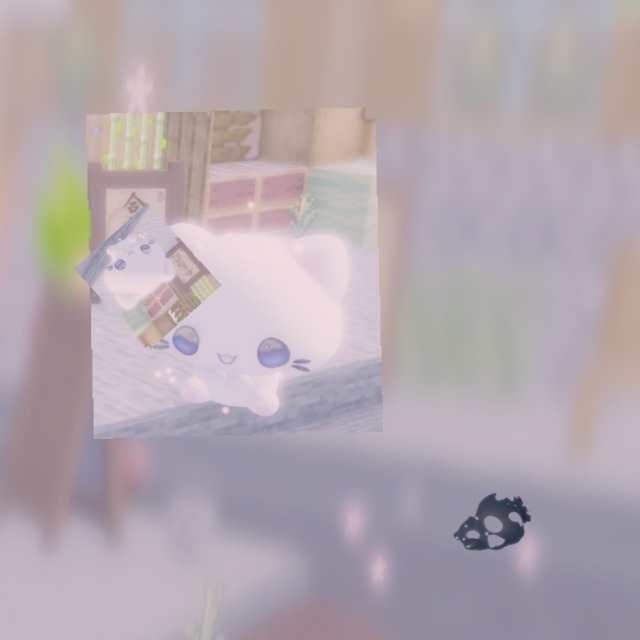urso_branco: (85, 107, 384, 439), (74, 203, 222, 351)
urso_preto: (437, 477, 541, 574)
